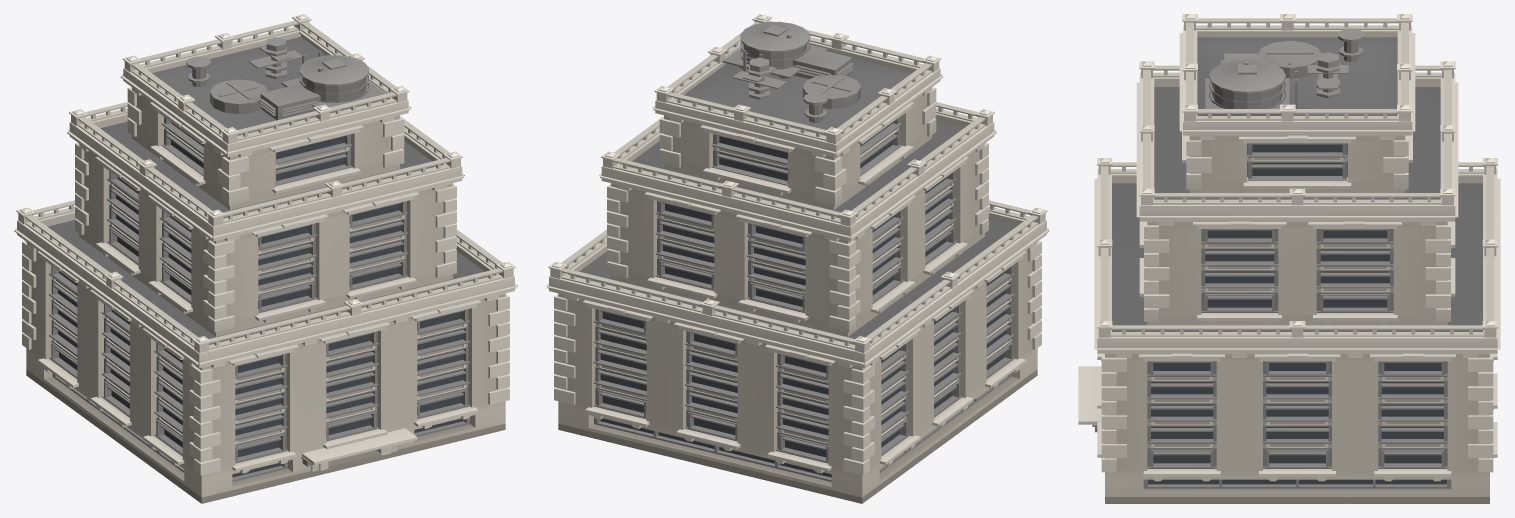
File: building-tower-stepped-near.glb
3 views of the same model, side by side, from view 1: azimuth 30°, elevation 25°; view 2: azimuth 150°, elevation 25°; view 3: azimuth 270°, elevation 25° (orthographic). The views are drawn at different scales.
Parts seen in each view (by area): view 1: Building; view 2: Building; view 3: Building.
Boxes of the visible parts, x1,y1,x2,y2 form: Building: (14, 14, 517, 503); Building: (546, 14, 1049, 503); Building: (1078, 14, 1500, 503).
Bounding box in the file's own units: 1.06 × 1.08 × 1.1.
